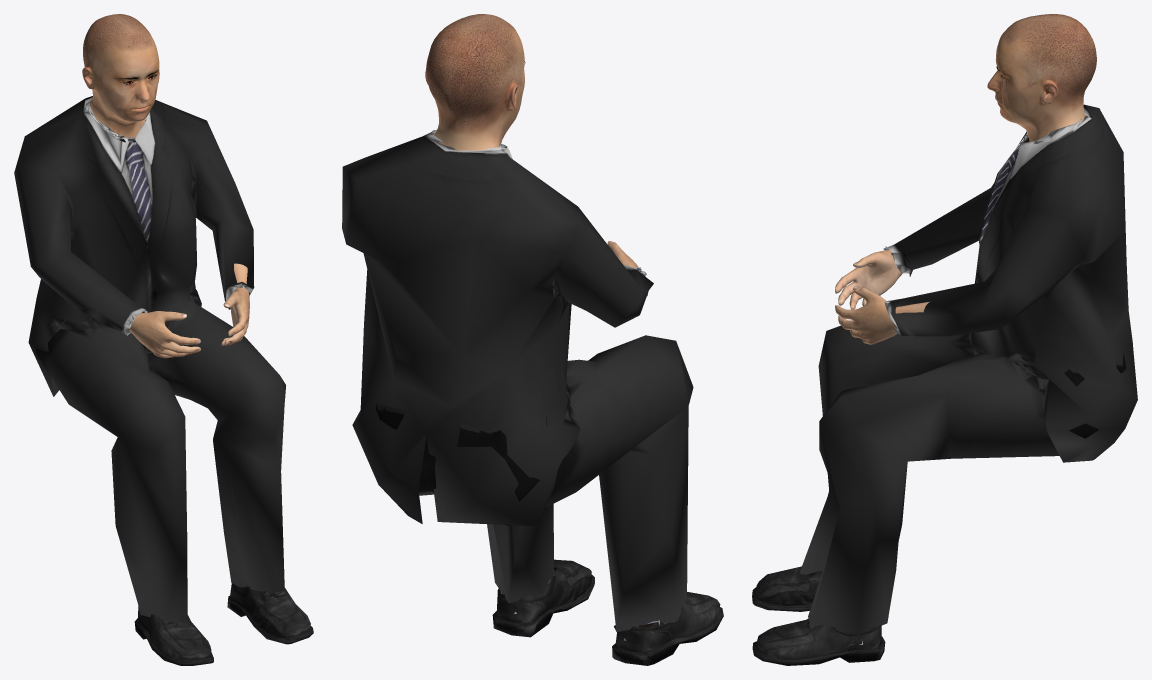
The model's file is receptionist.glb.
The picture shows the model from 3 angles, left to right: view 1: azimuth 30°, elevation 25°; view 2: azimuth 150°, elevation 25°; view 3: azimuth 270°, elevation 25°; orthographic projection. The views are drawn at different scales.
Visible parts, largest first — view 1: male_elegantsuit01, Ellis | anatomical body, shoes04; view 2: male_elegantsuit01, Ellis | anatomical body, shoes04; view 3: male_elegantsuit01, Ellis | anatomical body, shoes04.
Boxes of the visible parts, x1=… form: male_elegantsuit01: x1=14, y1=96, x2=285, y2=623; Ellis | anatomical body: x1=82, y1=14, x2=249, y2=358; shoes04: x1=134, y1=583, x2=313, y2=665; male_elegantsuit01: x1=342, y1=129, x2=693, y2=631; Ellis | anatomical body: x1=425, y1=14, x2=638, y2=267; shoes04: x1=492, y1=559, x2=723, y2=665; male_elegantsuit01: x1=799, y1=104, x2=1137, y2=634; Ellis | anatomical body: x1=835, y1=14, x2=1096, y2=344; shoes04: x1=752, y1=566, x2=885, y2=665.
Bounding box in the file's own units: 0.5541 × 1.36 × 0.7784.
Materials: 7 (7 with a texture image).
